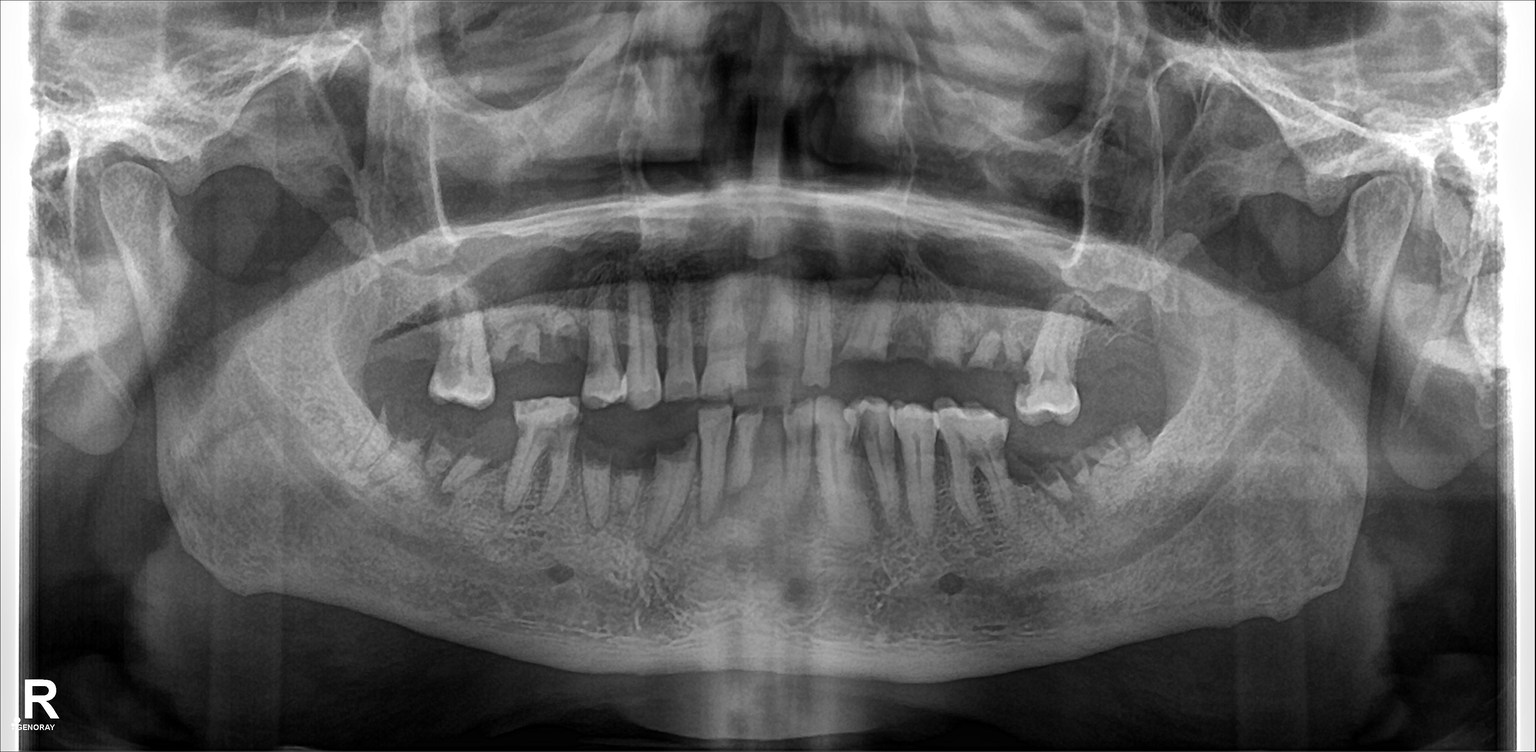Missing Tooth: (1123, 300, 1167, 405), (1071, 300, 1114, 401), (888, 285, 931, 383), (1146, 419, 1186, 506), (399, 287, 435, 377), (358, 292, 396, 375)
Retained Root: (430, 408, 508, 492), (646, 419, 699, 541), (847, 285, 898, 392), (365, 410, 429, 486), (1080, 419, 1122, 527), (538, 298, 591, 381), (914, 285, 956, 389), (974, 285, 1012, 395), (1028, 434, 1077, 517), (579, 411, 611, 536), (490, 311, 542, 383), (609, 415, 641, 529)
